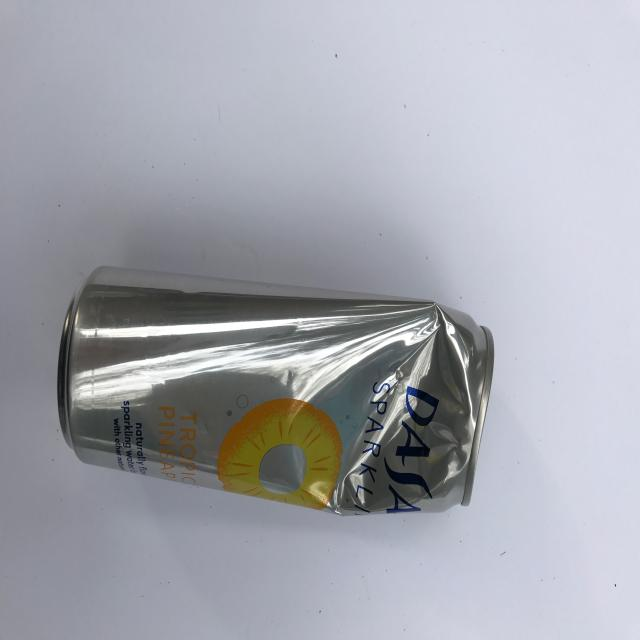metal: (57, 264, 494, 516)
